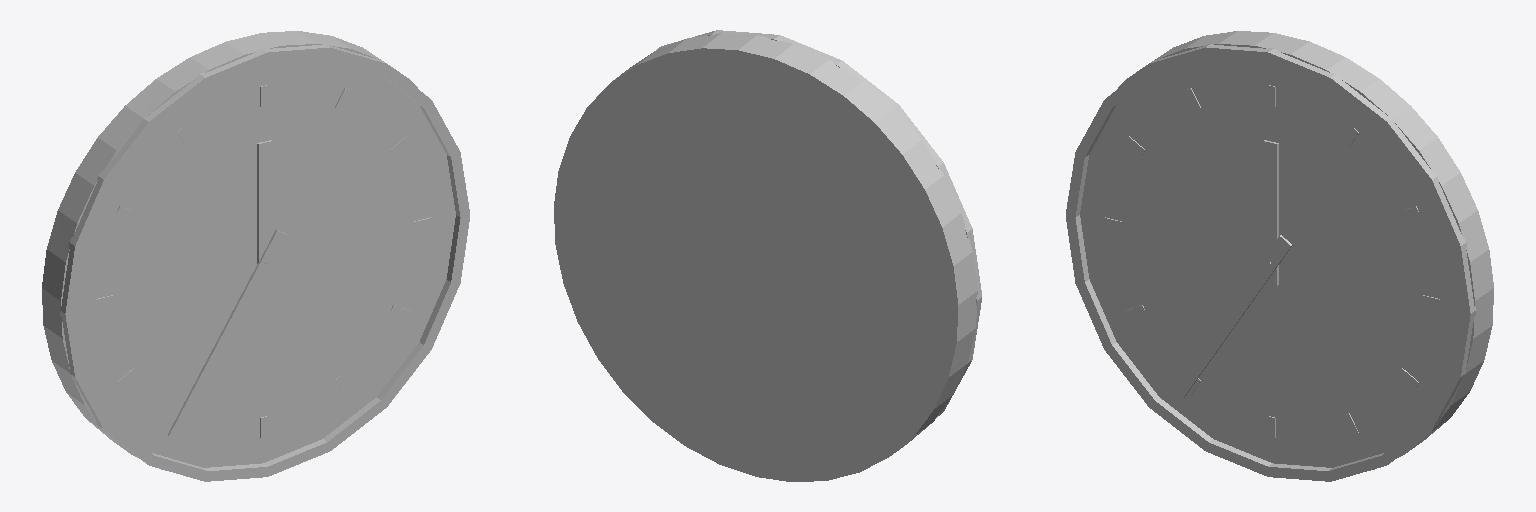
Rendered from Clocks.obj.
3 renders of one model, left to right at view 1: azimuth 30°, elevation 25°; view 2: azimuth 150°, elevation 25°; view 3: azimuth 330°, elevation 25°, orthographic.
Bounding box in the file's own units: 0.3401 × 0.3406 × 0.0347.